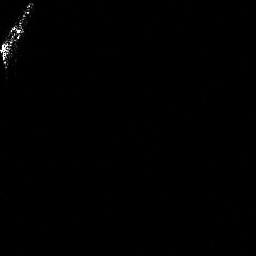ship: (1, 1, 36, 72)
